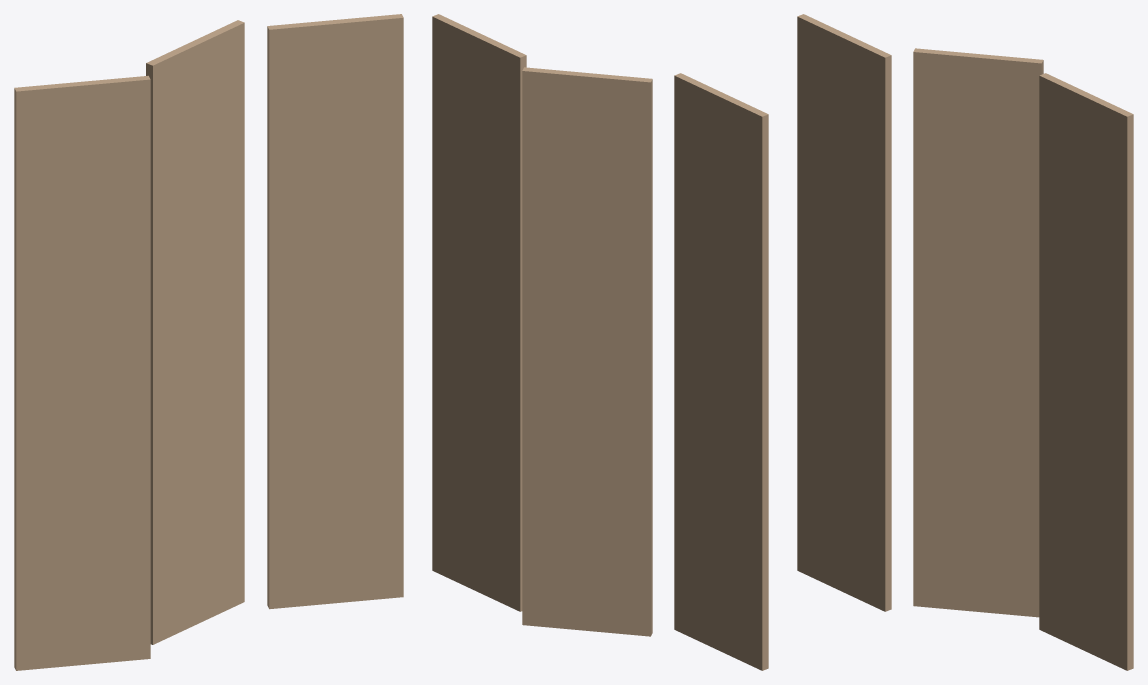
File: STG-002.glb
The picture shows the model from 3 angles, left to right: view 1: azimuth 30°, elevation 25°; view 2: azimuth 150°, elevation 25°; view 3: azimuth 330°, elevation 25°; orthographic projection. The views are drawn at different scales.
Visible parts, largest first — view 1: Cube, Cube.002, Cube.001; view 2: Cube.001, Cube, Cube.002; view 3: Cube.001, Cube, Cube.002.
Part boxes in pixels (<box>): Cube: <box>14,75,150,670</box>; Cube.002: <box>267,14,403,609</box>; Cube.001: <box>146,20,244,644</box>; Cube.001: <box>522,67,652,636</box>; Cube: <box>674,73,768,670</box>; Cube.002: <box>432,14,526,611</box>; Cube.001: <box>913,48,1043,617</box>; Cube: <box>797,14,891,611</box>; Cube.002: <box>1039,73,1133,670</box>.
Bounding box in the file's own units: 1.17 × 1.75 × 0.2141.
